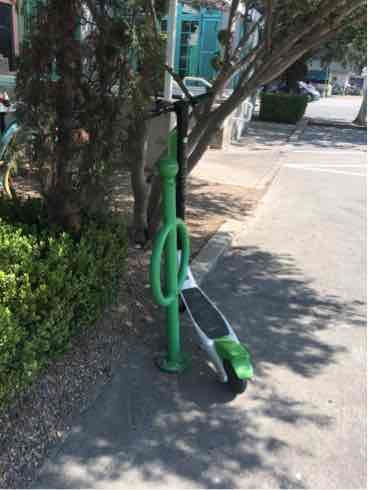scooter: (132, 77, 270, 390)
